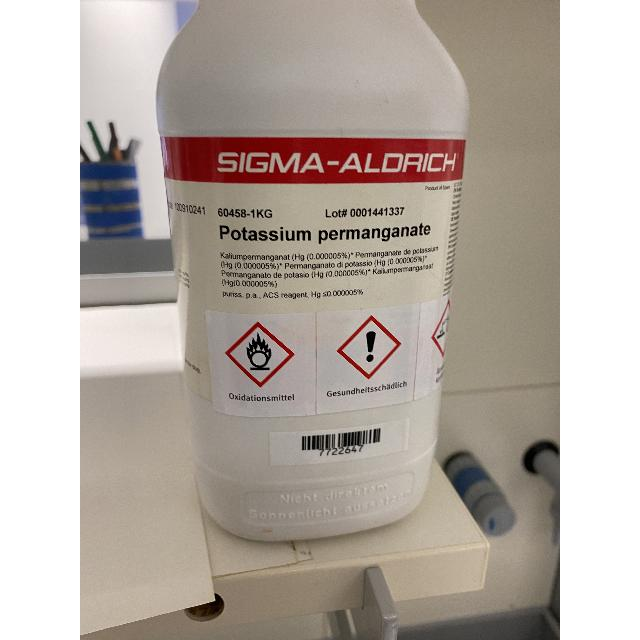corrosive: (431, 300, 449, 356)
health-ozone layer hazard: (337, 314, 401, 380)
oxidising: (224, 321, 296, 389)
